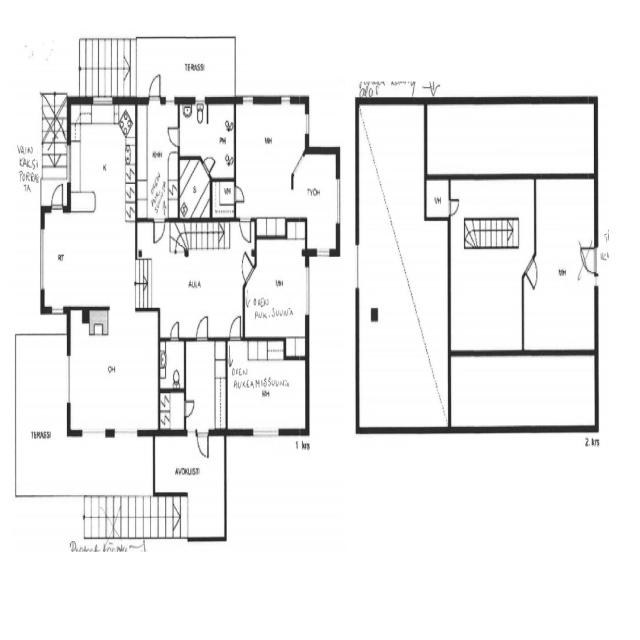door: (579, 242, 599, 279), (240, 250, 256, 284), (195, 428, 210, 460), (148, 70, 162, 104), (50, 181, 65, 212), (194, 314, 210, 342), (527, 260, 540, 294), (166, 123, 181, 151), (239, 216, 253, 245), (152, 217, 166, 246), (228, 312, 242, 340), (182, 395, 196, 419), (448, 195, 462, 218), (232, 182, 246, 205), (168, 318, 181, 342)
window: (38, 224, 47, 294), (302, 261, 312, 321), (64, 349, 73, 410), (78, 424, 109, 440), (250, 425, 283, 440), (112, 424, 141, 441), (353, 240, 362, 293), (334, 175, 342, 228), (66, 143, 74, 191), (90, 92, 115, 107), (278, 92, 293, 110), (240, 92, 256, 108), (303, 109, 311, 141), (314, 246, 332, 260), (50, 302, 66, 315), (163, 92, 177, 106), (194, 93, 208, 107)
zone: (357, 98, 450, 432), (449, 176, 528, 354), (427, 101, 598, 175), (527, 174, 597, 354), (136, 218, 244, 331), (449, 352, 597, 431), (68, 308, 160, 434), (42, 210, 135, 308), (235, 100, 305, 225), (69, 101, 137, 218), (226, 339, 308, 432), (244, 233, 308, 342), (135, 100, 180, 216), (294, 152, 339, 247), (184, 338, 227, 432), (178, 101, 234, 172), (179, 157, 211, 218), (159, 338, 186, 388), (158, 389, 186, 432), (212, 178, 236, 220), (426, 178, 450, 216)
